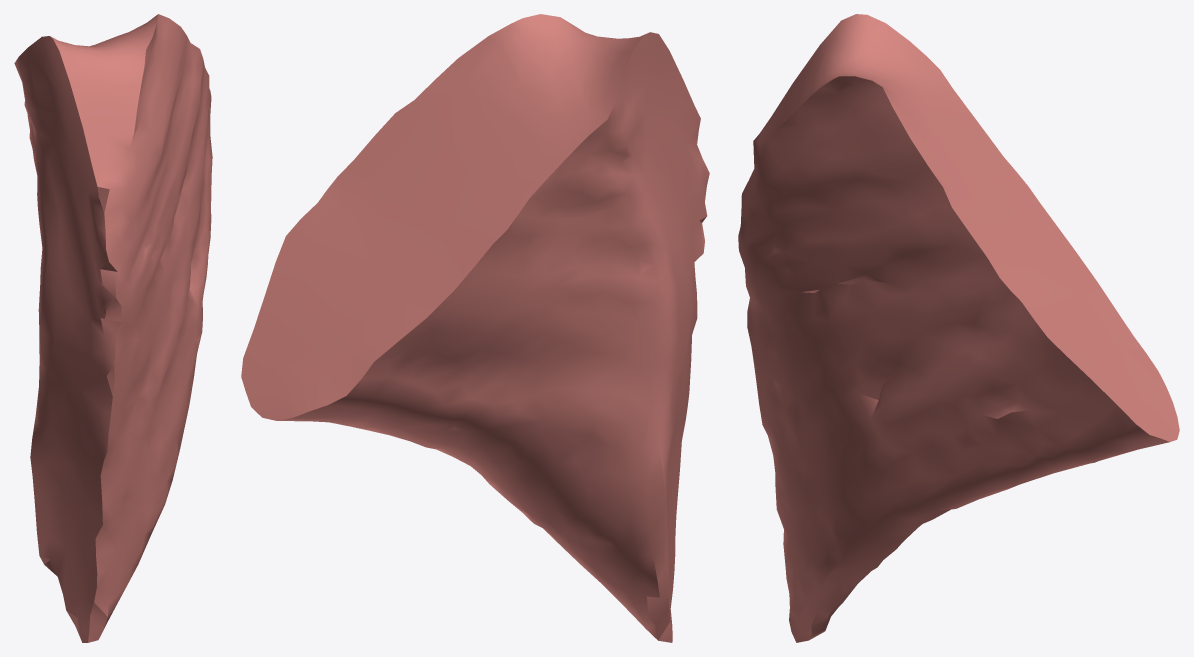
The model's file is fma299453_mm1787m.glb.
3 renders of one model, left to right at view 1: azimuth 30°, elevation 25°; view 2: azimuth 150°, elevation 25°; view 3: azimuth 270°, elevation 25°, orthographic. The views are drawn at different scales.
Parts seen in each view (by area): view 1: FMA299453_MM1787M; view 2: FMA299453_MM1787M; view 3: FMA299453_MM1787M.
Boxes of the visible parts, x1,y1,x2,y2 form: FMA299453_MM1787M: (14, 14, 212, 642); FMA299453_MM1787M: (241, 14, 709, 642); FMA299453_MM1787M: (738, 14, 1179, 642).
Size of the model in its own units: 0.0181 by 0.038 by 0.0244.
